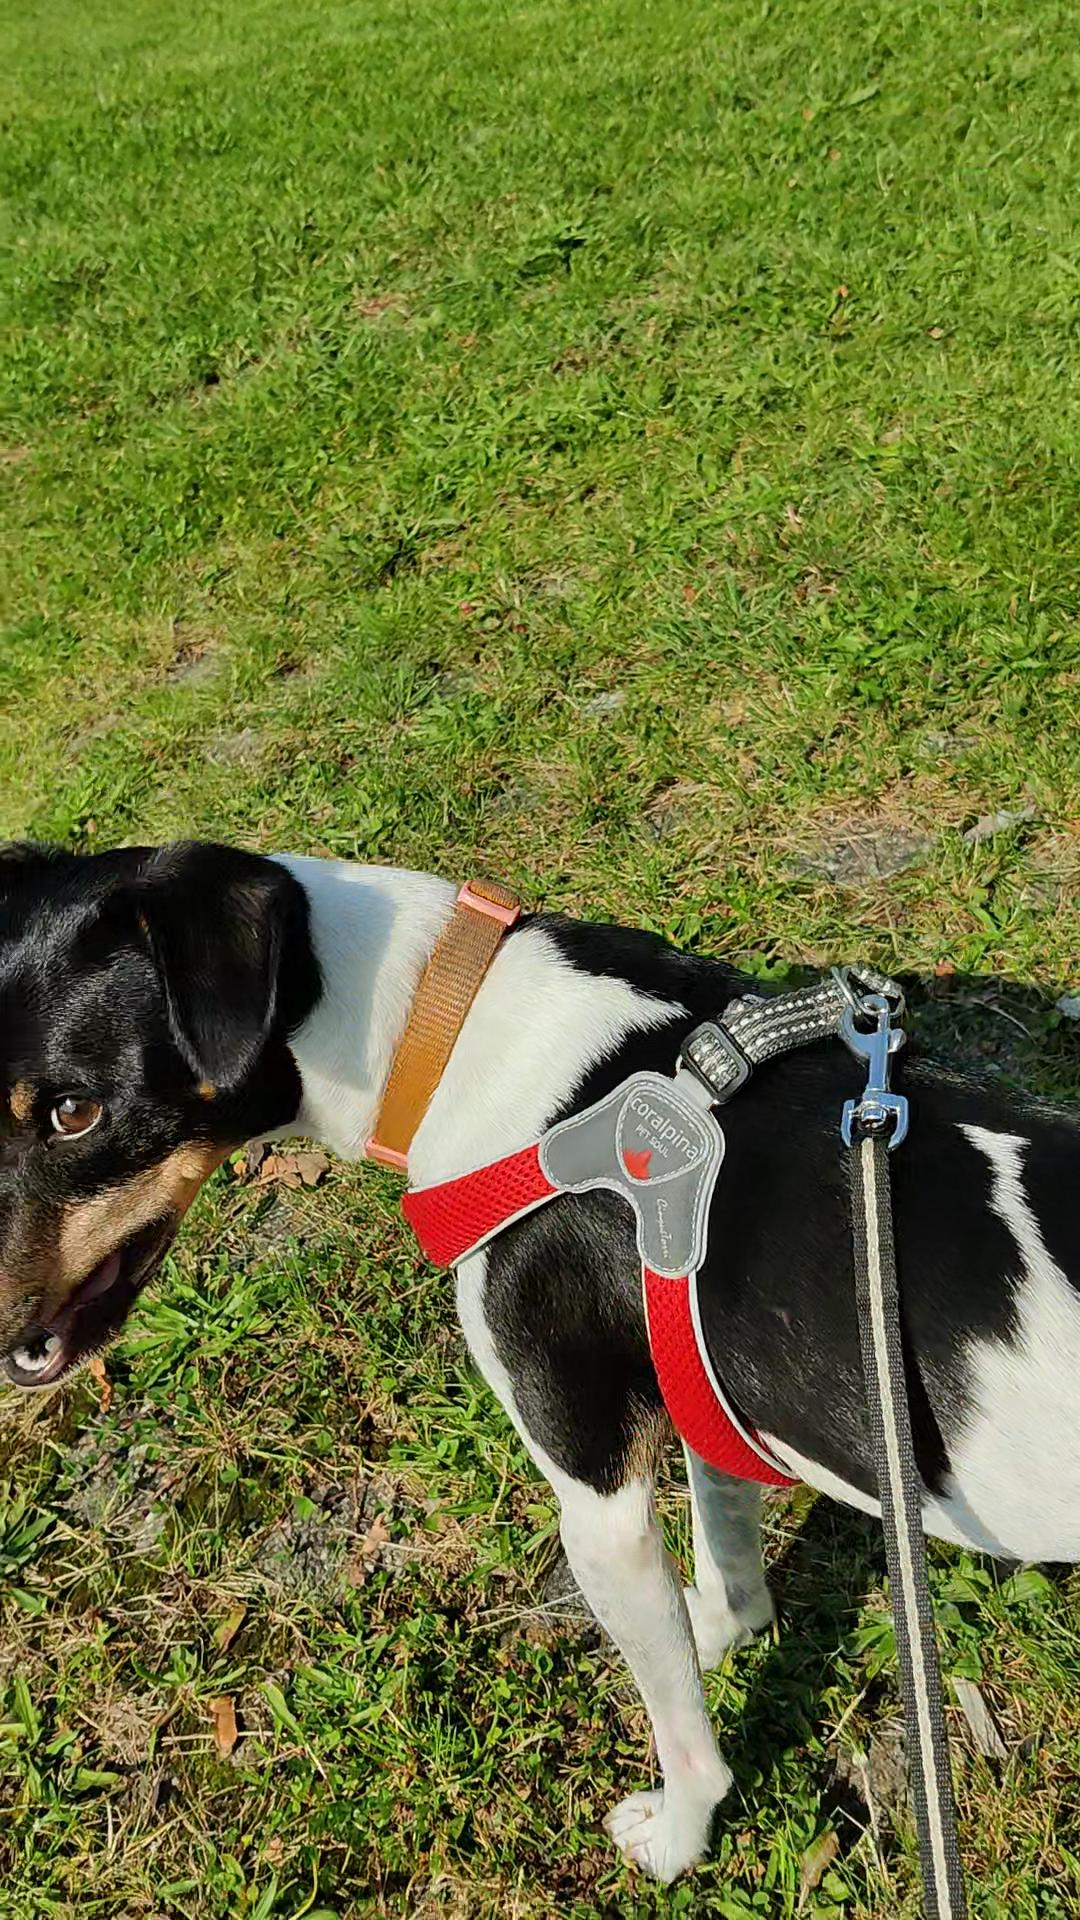Dog: (0, 825, 1079, 1884)
